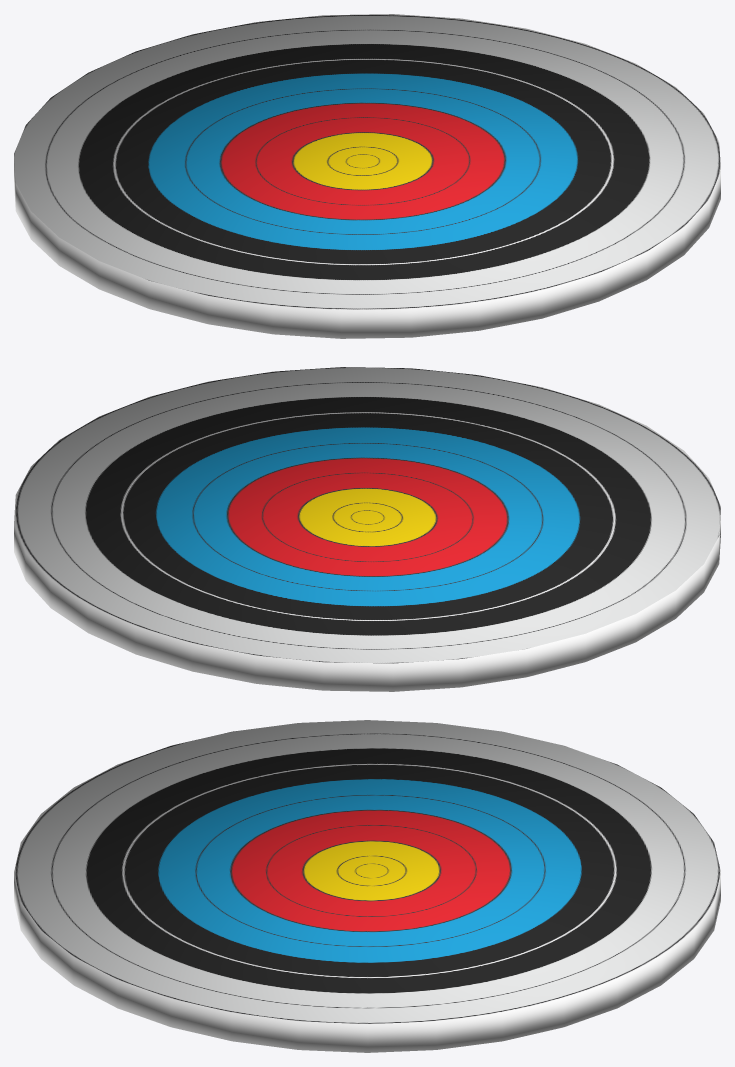
The model's file is simpleTarget.fbx.
3 views of the same model, one above another, from view 1: azimuth 30°, elevation 25°; view 2: azimuth 150°, elevation 25°; view 3: azimuth 270°, elevation 25° (orthographic).
Visible parts, largest first — view 1: Cube.001; view 2: Cube.001; view 3: Cube.001.
Part boxes in pixels (x1,y1,x2,y2): Cube.001: (14, 14, 720, 338); Cube.001: (14, 367, 720, 691); Cube.001: (14, 720, 720, 1052).
Size of the model in its own units: 200 by 8.8 by 196.
